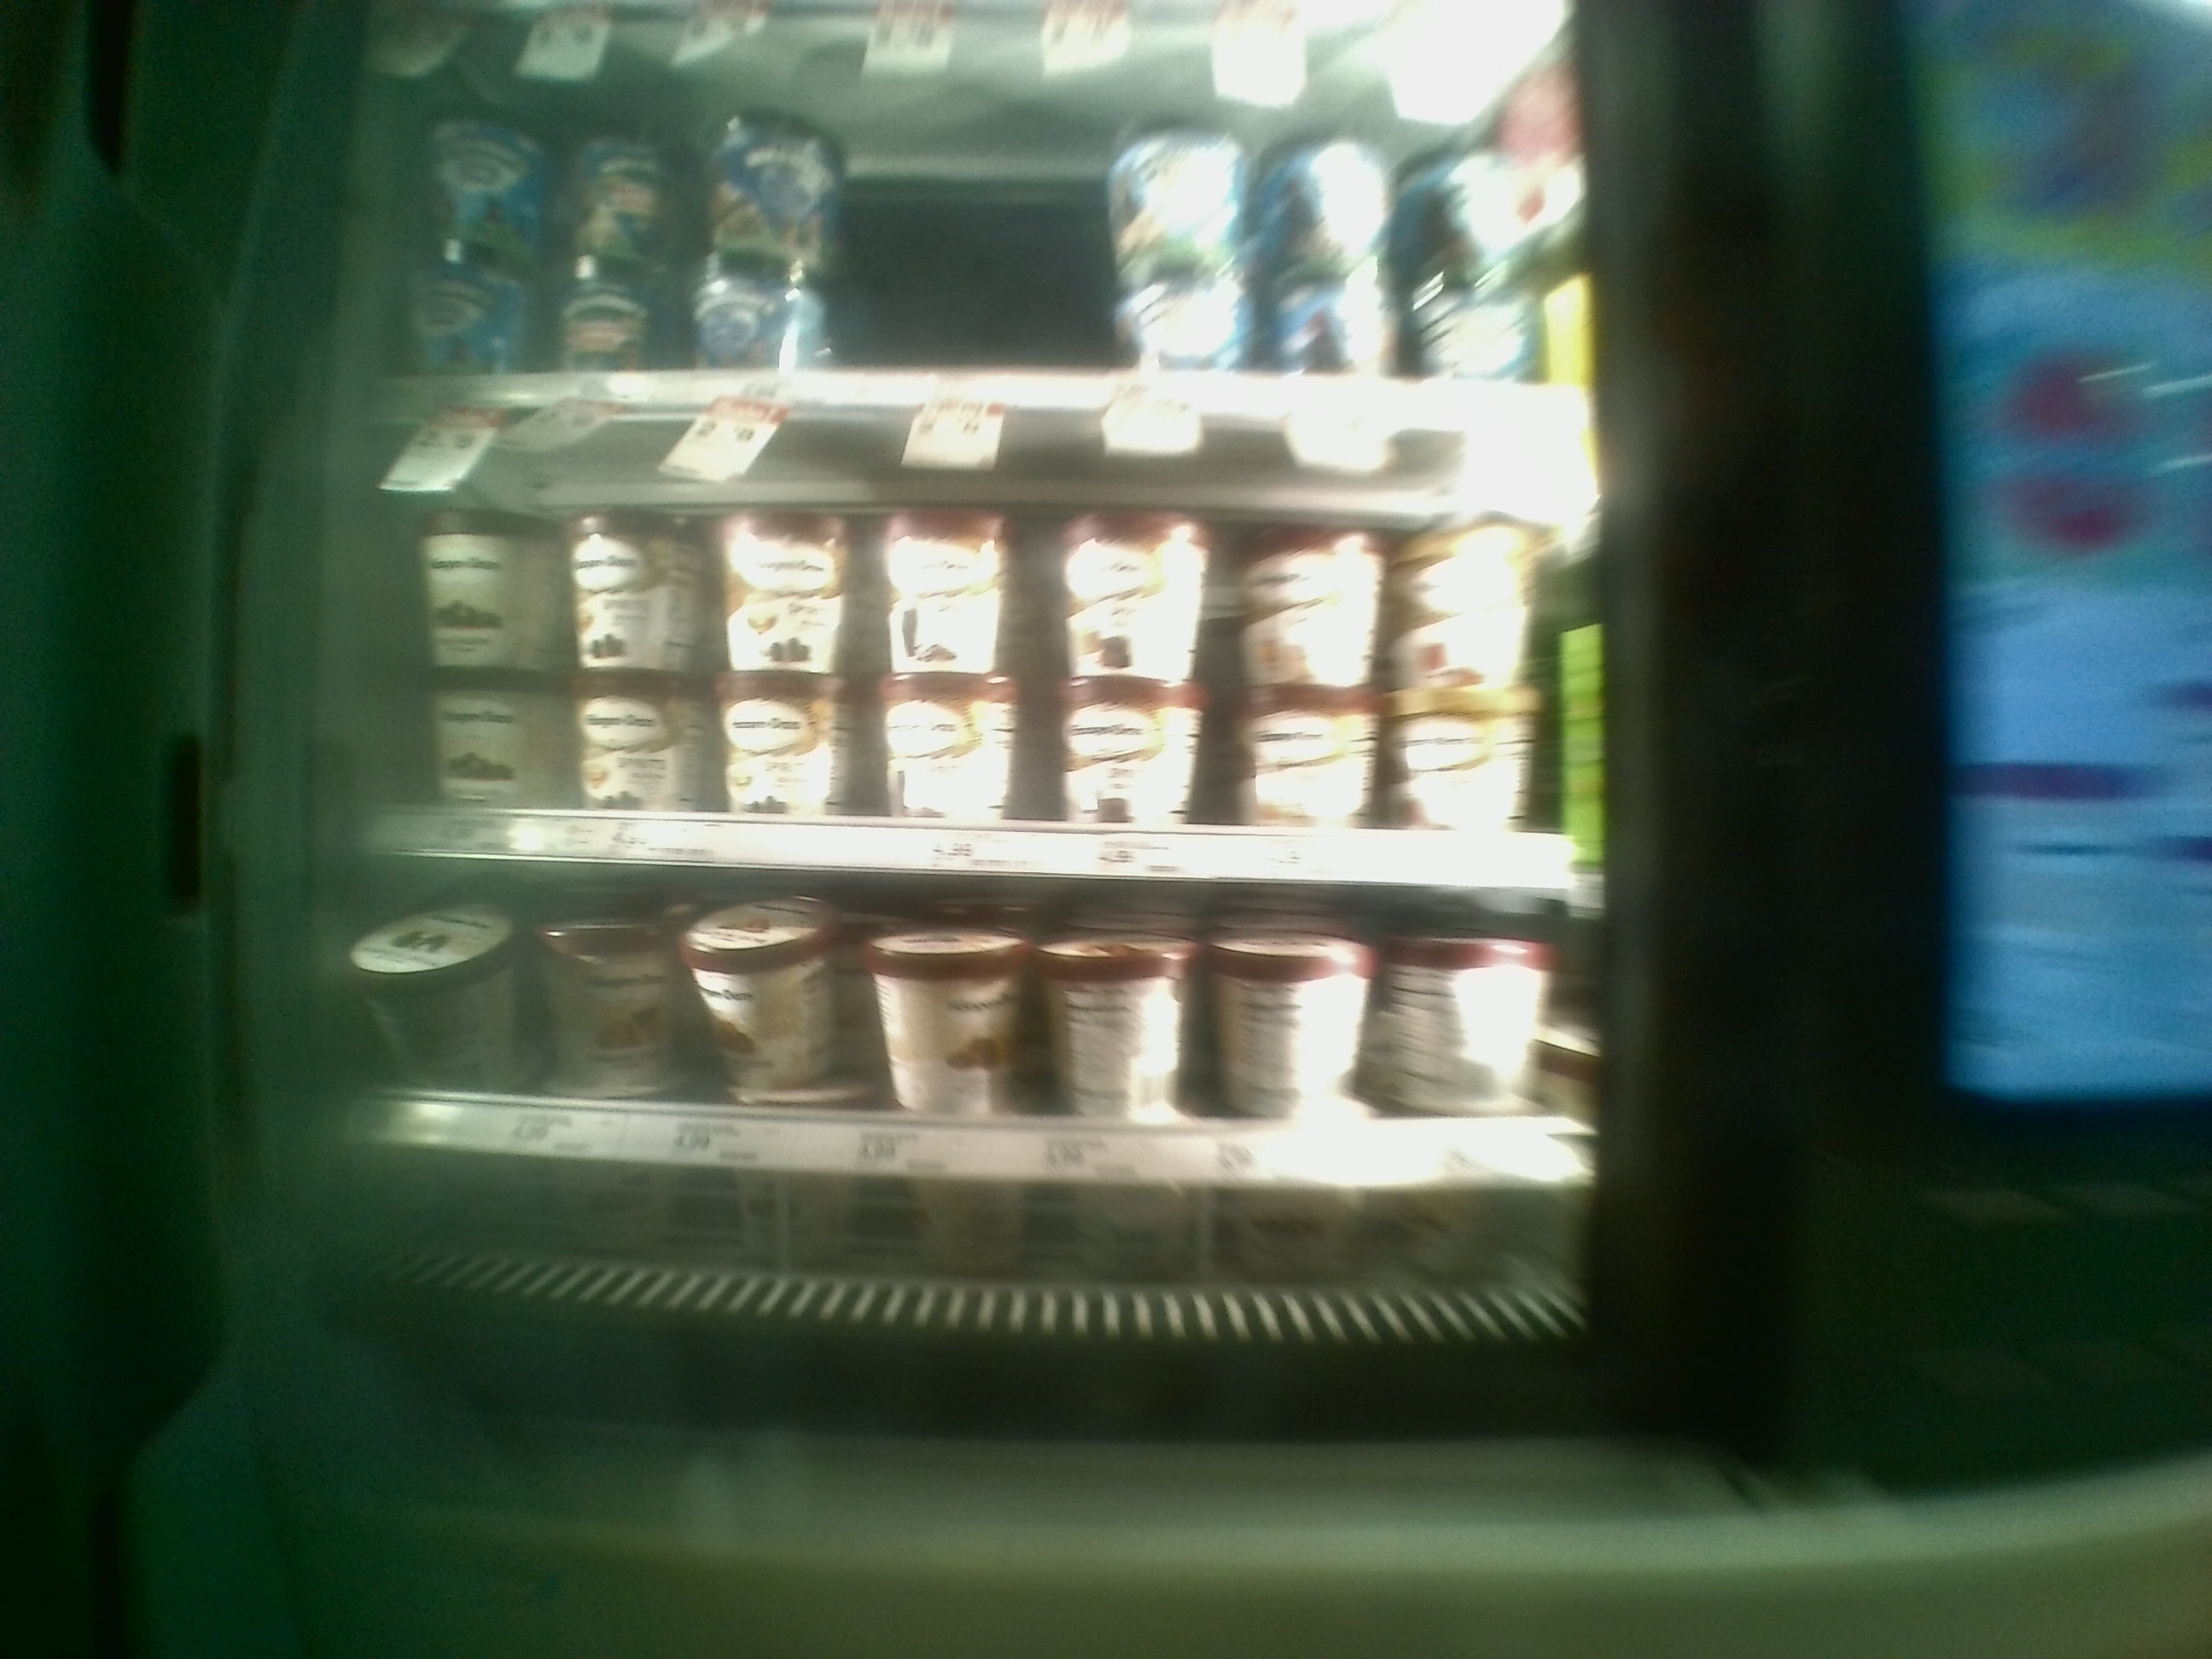shelf: (369, 416, 1615, 877), (361, 859, 1622, 1291)
